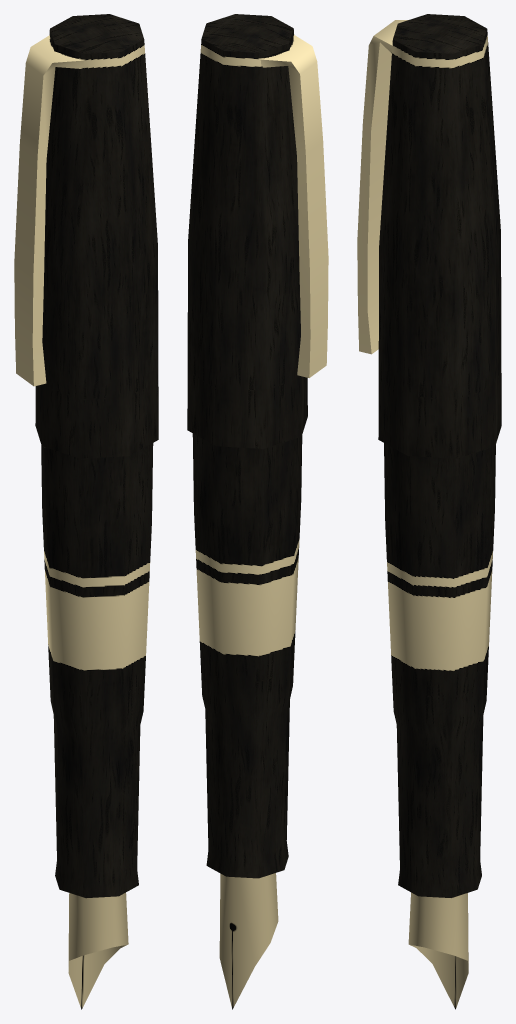
Rendered from Pen.glb.
The picture shows the model from 3 angles, left to right: view 1: azimuth 30°, elevation 25°; view 2: azimuth 150°, elevation 25°; view 3: azimuth 330°, elevation 25°; orthographic projection. The views are drawn at different scales.
Visible parts, largest first — view 1: Body; view 2: Body; view 3: Body.
Part boxes in pixels (<box>): Body: <box>14,14,158,1009</box>; Body: <box>187,14,328,1009</box>; Body: <box>357,14,501,1009</box>.
Bounding box in the file's own units: 0.0209 × 0.1545 × 0.018.
1 material, 1 textured.
